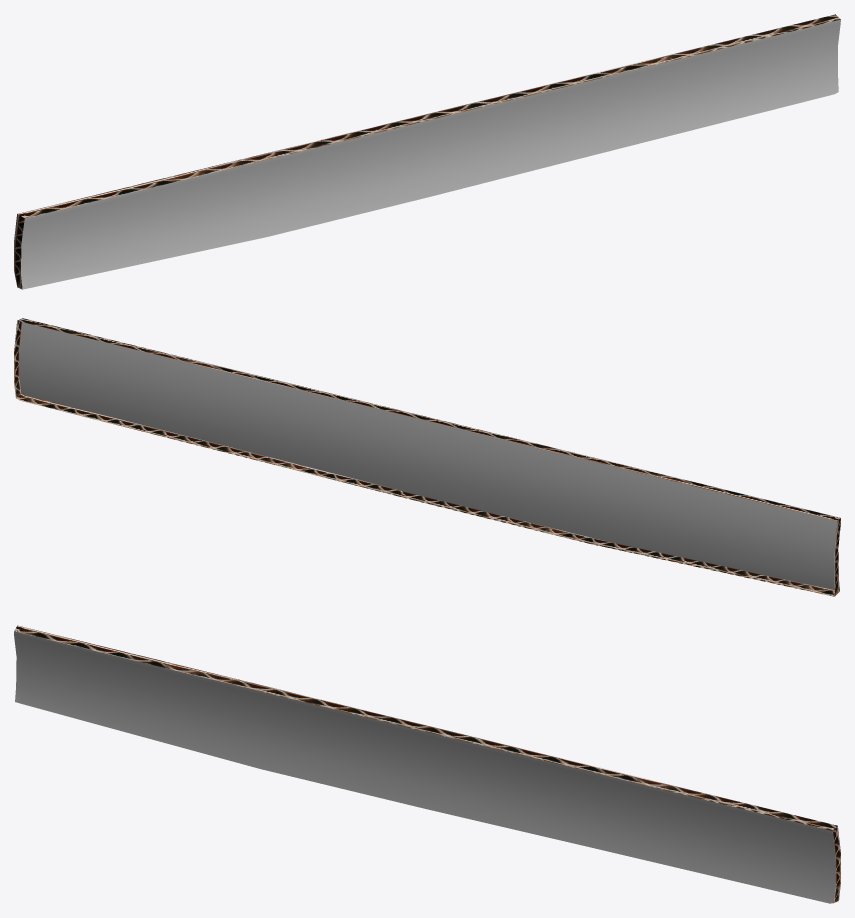
The model's file is SK_Border_001.fbx.
The picture shows the model from 3 angles, top to bottom: view 1: azimuth 30°, elevation 25°; view 2: azimuth 150°, elevation 25°; view 3: azimuth 330°, elevation 25°; orthographic projection.
Visible parts, largest first — view 1: Border_001; view 2: Border_001; view 3: Border_001.
Boxes of the visible parts, left/top/right/bottom form: Border_001: left=14, top=14, right=840, bottom=289; Border_001: left=14, top=318, right=840, bottom=596; Border_001: left=14, top=625, right=840, bottom=903.
Bounding box in the file's own units: 694 × 66.08 × 12.77.
